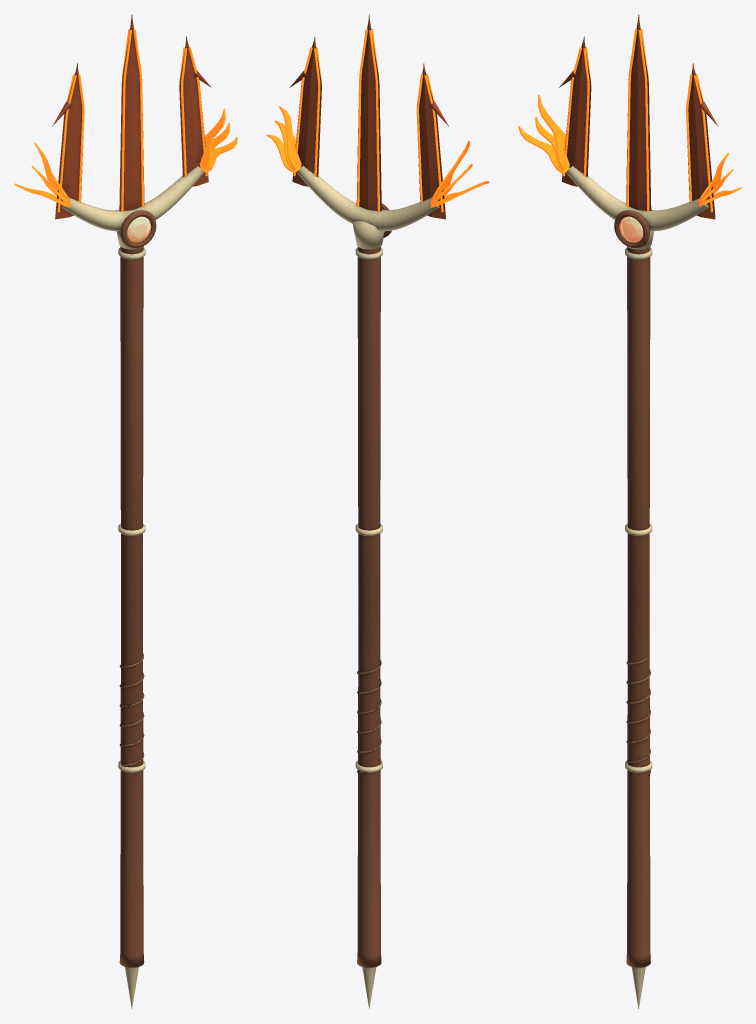
The model's file is arma_lend_garfo_fogo.glb.
The picture shows the model from 3 angles, left to right: view 1: azimuth 30°, elevation 25°; view 2: azimuth 150°, elevation 25°; view 3: azimuth 330°, elevation 25°; orthographic projection.
Visible parts, largest first — view 1: arma_lend_garfo_fogo, gume0.00-1, gume0.001; view 2: arma_lend_garfo_fogo, gume0.00-1b, gume0.001b, ac_garfo12; view 3: arma_lend_garfo_fogo, ac_garfo-12, gume0.001, gume0.00-1.
Part boxes in pixels (x1=…): arma_lend_garfo_fogo: x1=52, y1=14, x2=211, y2=1008; gume0.00-1: x1=121, y1=30, x2=131, y2=211; gume0.001: x1=133, y1=29, x2=144, y2=206; arma_lend_garfo_fogo: x1=289, y1=14, x2=448, y2=1008; gume0.00-1b: x1=369, y1=30, x2=379, y2=211; gume0.001b: x1=357, y1=29, x2=367, y2=206; ac_garfo12: x1=279, y1=106, x2=301, y2=169; arma_lend_garfo_fogo: x1=559, y1=14, x2=718, y2=1008; ac_garfo-12: x1=538, y1=94, x2=569, y2=169; gume0.001: x1=638, y1=30, x2=649, y2=211; gume0.00-1: x1=626, y1=29, x2=637, y2=206.
Bounding box in the file's own units: 0.593 × 2.52 × 0.0809.
20 materials, 1 textured.
